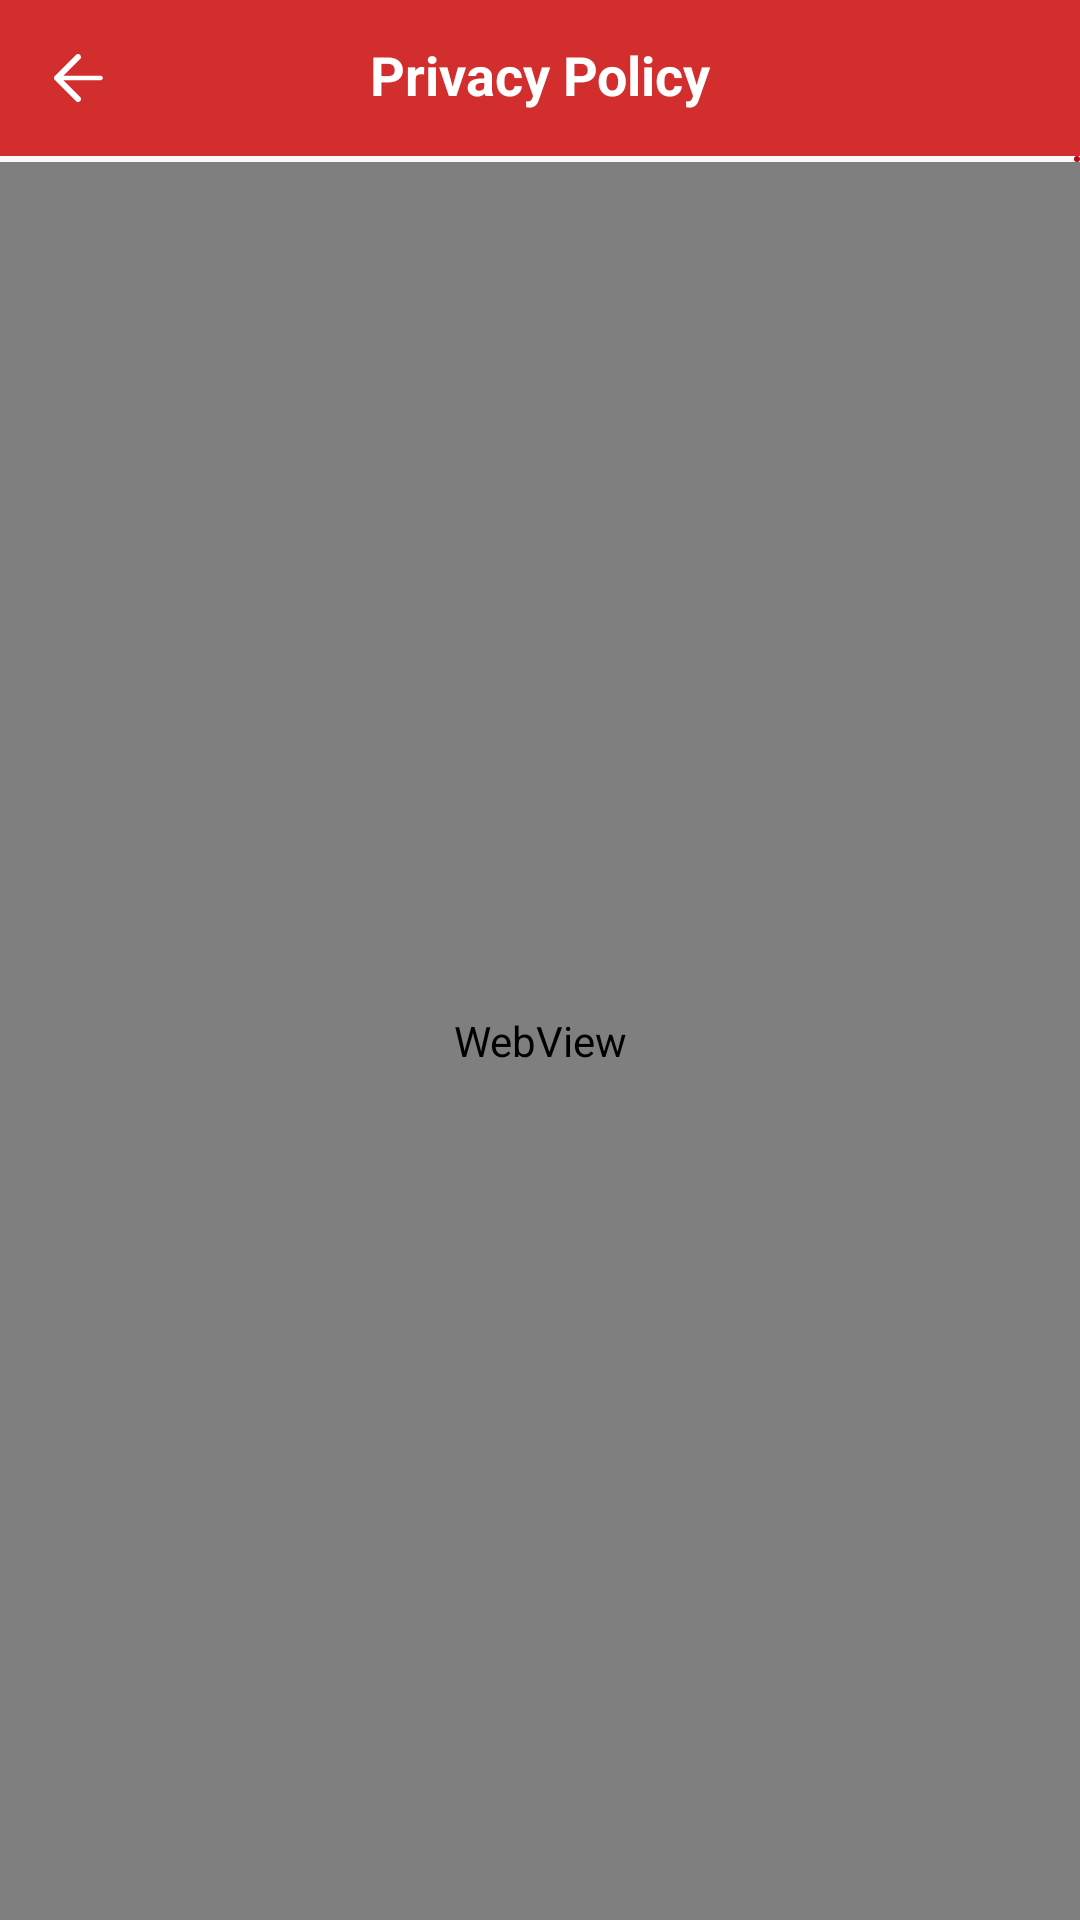

Screen size 1080 × 1920. Icon name, then its center in pixels as point (x, y):
back: point (78, 78)
